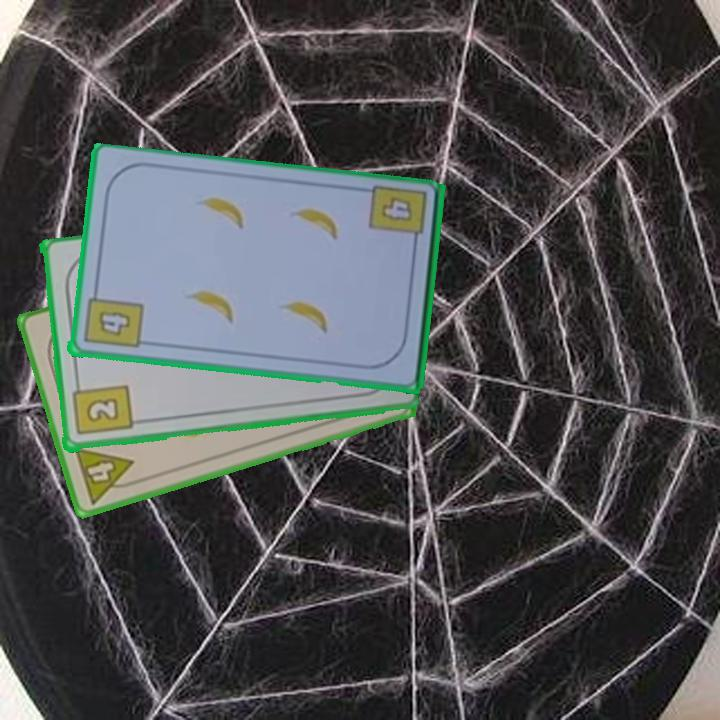2b: (68, 377, 134, 439)
4b: (79, 284, 145, 351), (376, 193, 416, 225)
4p: (71, 443, 142, 507)
